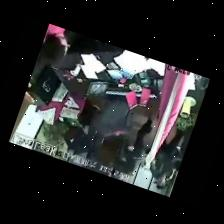person: (150, 129, 184, 188), (63, 105, 99, 156), (42, 24, 69, 63)
